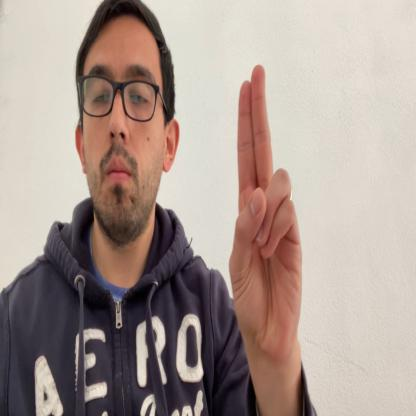U: (229, 66, 302, 362)
